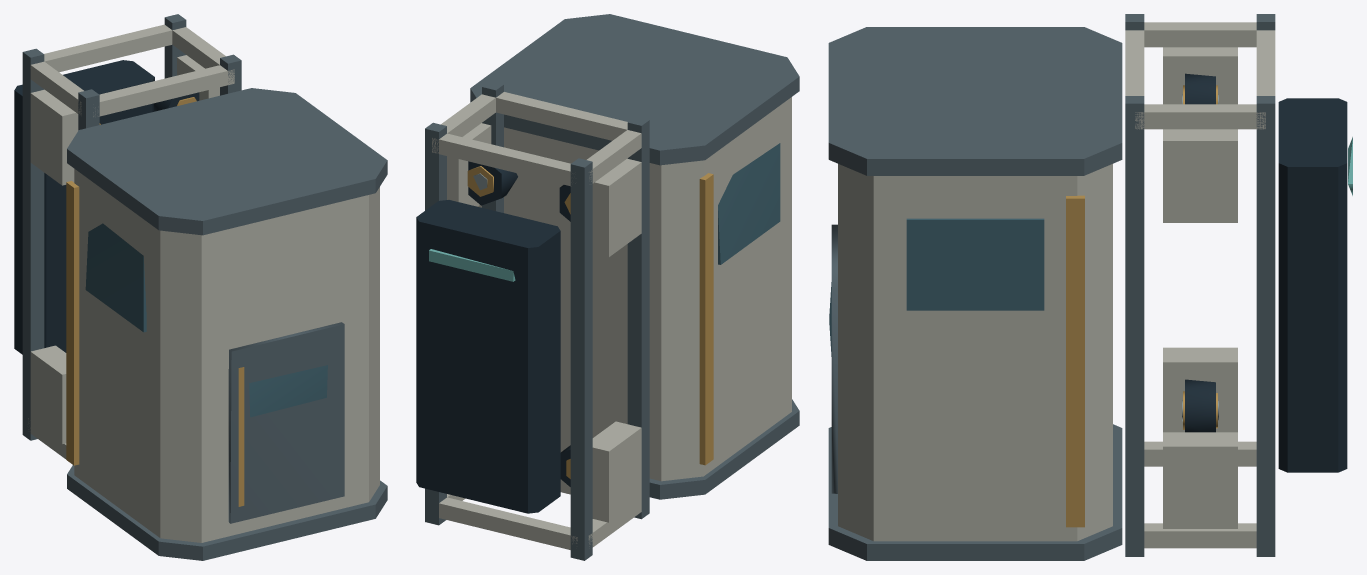
File: climber_d0_lod2.glb
3 views of the same model, side by side, from view 1: azimuth 30°, elevation 25°; view 2: azimuth 150°, elevation 25°; view 3: azimuth 270°, elevation 25° (orthographic). The views are drawn at different scales.
Visible parts, largest first — view 1: DISTANCE_STATIC; view 2: DISTANCE_STATIC; view 3: DISTANCE_STATIC.
Boxes of the visible parts, bbox=[...] form: DISTANCE_STATIC: bbox=[14, 14, 387, 560]; DISTANCE_STATIC: bbox=[416, 14, 799, 560]; DISTANCE_STATIC: bbox=[828, 14, 1352, 560].
Bounding box in the file's own units: 5.02 × 8 × 8.4.
